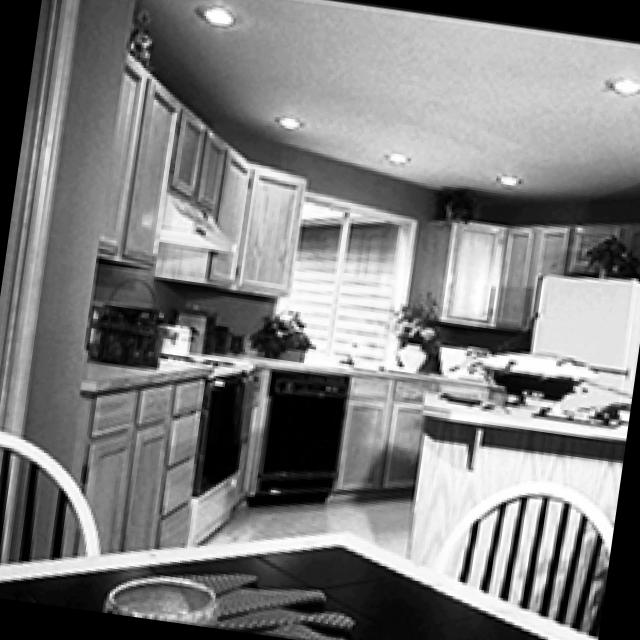2001: (292, 192, 420, 366)
bouquet: (394, 299, 442, 372)
bowl -X: (105, 574, 224, 627)
boxes: (178, 305, 250, 355)
cabinets: (102, 51, 310, 297), (60, 375, 206, 556), (422, 218, 640, 330), (341, 371, 508, 495)
ceiling beam: (135, 0, 640, 201)
ceiling lamps: (200, 0, 241, 26), (606, 69, 640, 95), (277, 109, 310, 130), (389, 146, 416, 166), (497, 170, 529, 186)
counter: (83, 341, 215, 388)
counter bottom: (427, 388, 629, 436)
dish towels: (240, 370, 260, 439)
dishwasher: (251, 369, 352, 503)
grill: (483, 349, 605, 409)
hood: (162, 191, 243, 248)
napkins: (196, 572, 359, 640)
oven cloth: (187, 364, 253, 546)
plant -x: (255, 310, 319, 359), (590, 233, 640, 274), (130, 6, 160, 70)
pot hanger: (92, 296, 165, 366), (164, 321, 193, 355)
refrigerator: (533, 270, 640, 396)
stove burner: (196, 354, 261, 377)
table -X: (0, 529, 599, 640)
top of chair: (438, 481, 615, 639), (0, 429, 103, 564)
